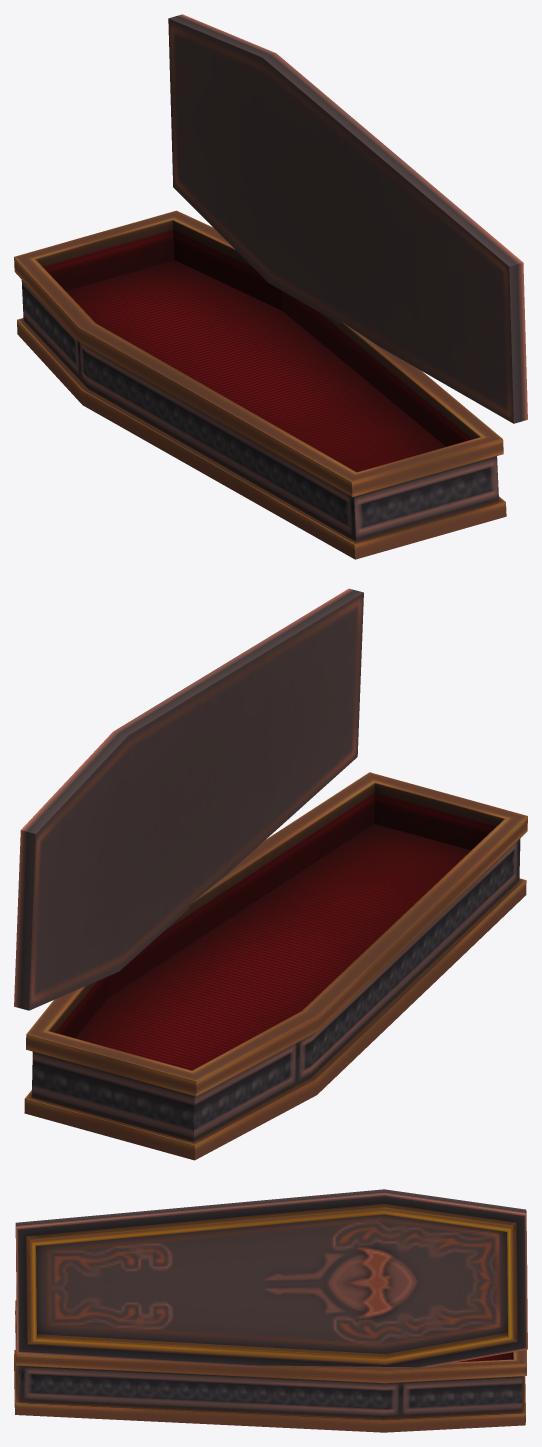
File: DraculaCoffin2.FBX
3 views of the same model, one above another, from view 1: azimuth 30°, elevation 25°; view 2: azimuth 150°, elevation 25°; view 3: azimuth 270°, elevation 25° (orthographic). The views are drawn at different scales.
Parts seen in each view (by area): view 1: DraculaCoffin, Coffin_Lid; view 2: DraculaCoffin, Coffin_Lid; view 3: Coffin_Lid, DraculaCoffin.
Boxes of the visible parts, left/top/right/bottom form: DraculaCoffin: left=14, top=210, right=506, bottom=559; Coffin_Lid: left=168, top=14, right=527, bottom=423; DraculaCoffin: left=24, top=772, right=527, bottom=1160; Coffin_Lid: left=14, top=588, right=363, bottom=1010; Coffin_Lid: left=15, top=1189, right=527, bottom=1367; DraculaCoffin: left=14, top=1300, right=526, bottom=1432.
Size of the model in its own units: 49.37 by 65.39 by 128.
